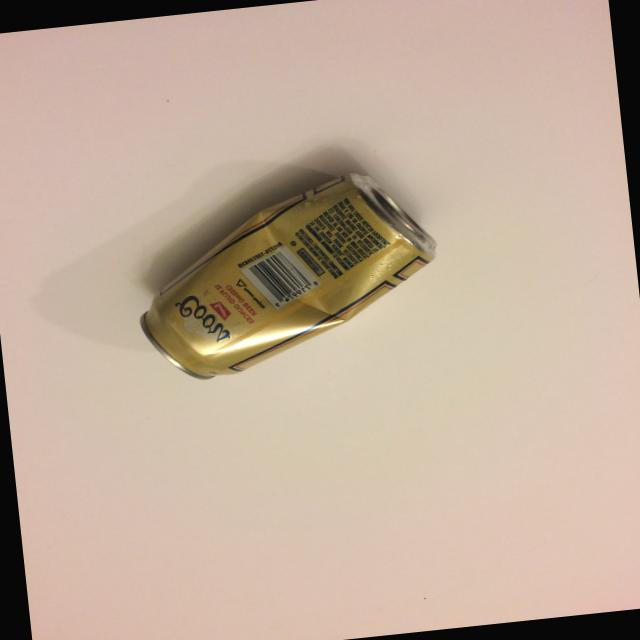Metal: (115, 146, 454, 412)
